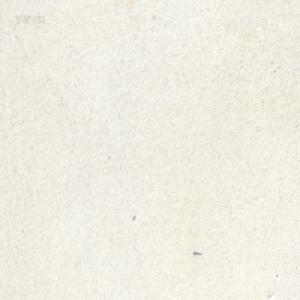Nail: (193, 249, 201, 256)
